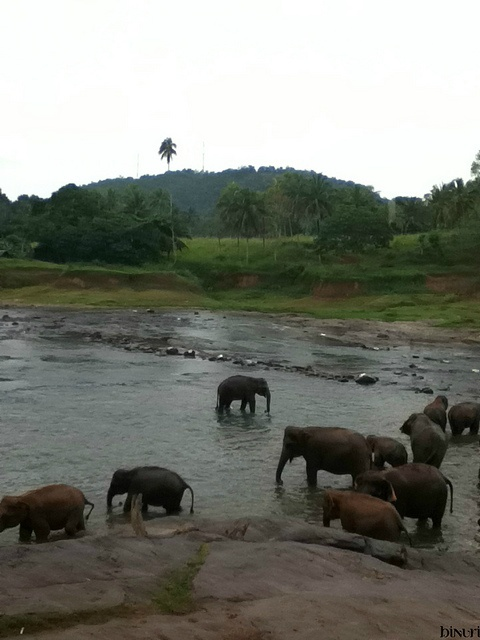elephant: (352, 461, 452, 547), (273, 426, 375, 493), (1, 481, 96, 543), (321, 489, 411, 547), (105, 465, 196, 521), (398, 408, 448, 468), (212, 375, 274, 421), (365, 434, 406, 470), (450, 399, 480, 441), (424, 394, 450, 432)
